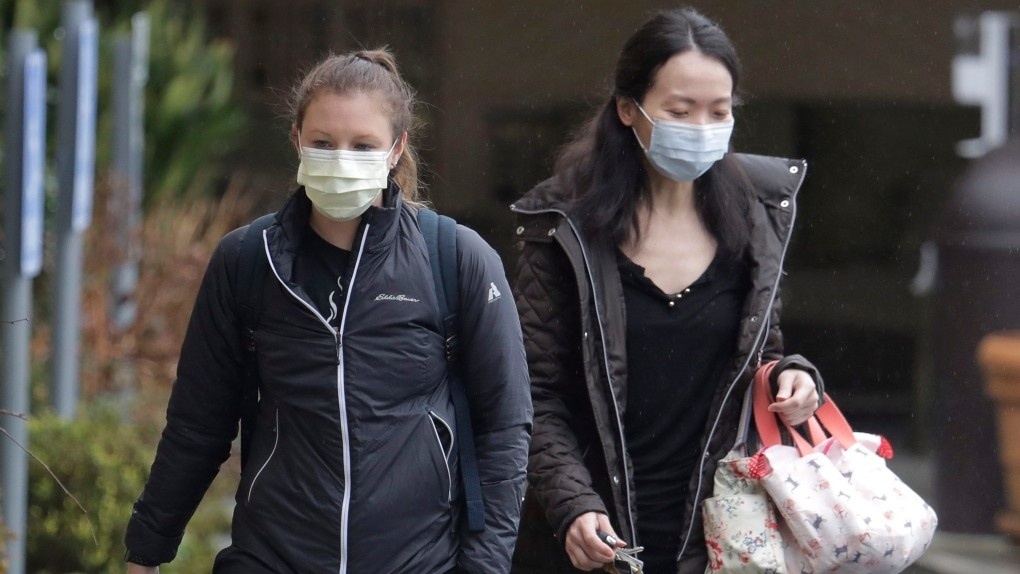with_mask: (617, 50, 749, 176), (290, 83, 403, 215)
